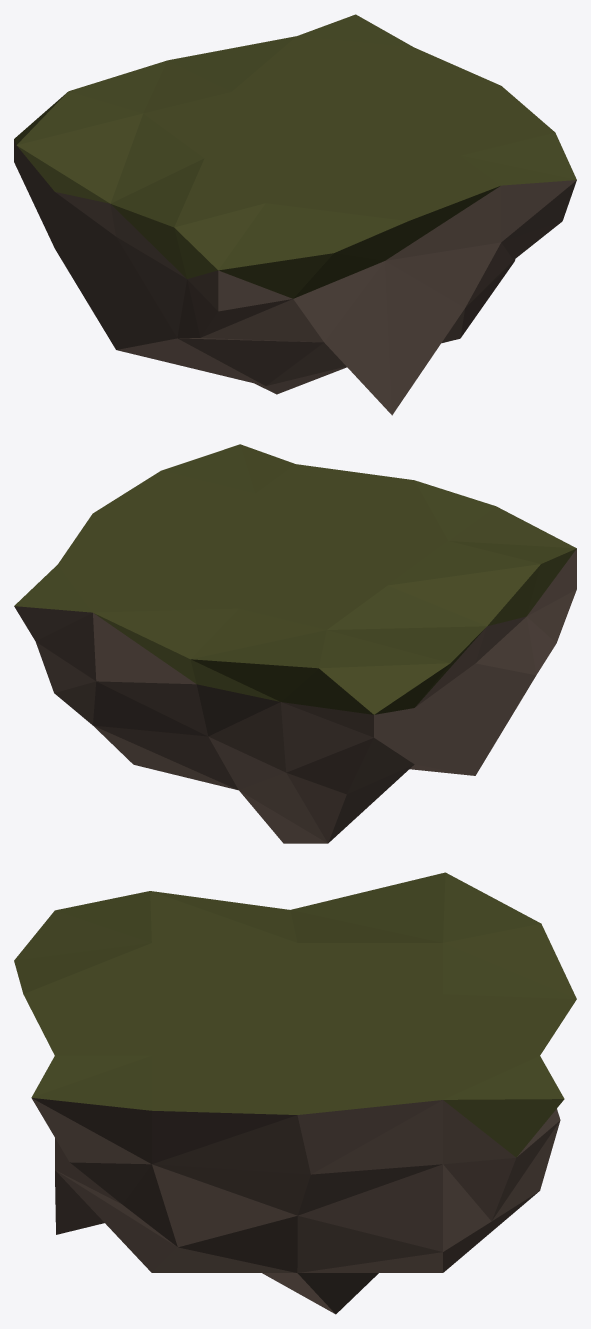
The model's file is Floating Island.fbx.
3 views of the same model, one above another, from view 1: azimuth 30°, elevation 25°; view 2: azimuth 150°, elevation 25°; view 3: azimuth 270°, elevation 25° (orthographic). The views are drawn at different scales.
Parts seen in each view (by area): view 1: Floating_Island; view 2: Floating_Island; view 3: Floating_Island.
Part boxes in pixels (box(x1,y1,x2,y2)): Floating_Island: box(14, 14, 576, 415); Floating_Island: box(14, 444, 576, 843); Floating_Island: box(14, 872, 576, 1314).
Size of the model in its own units: 65.85 by 40.15 by 63.95.
